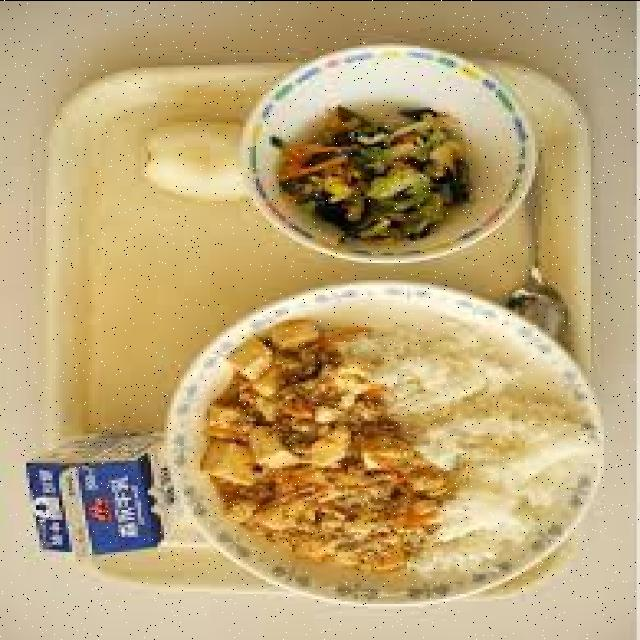Green veg: (276, 109, 466, 245)
Rice: (348, 326, 597, 571)
Tofu: (200, 321, 374, 484), (361, 440, 407, 469)
